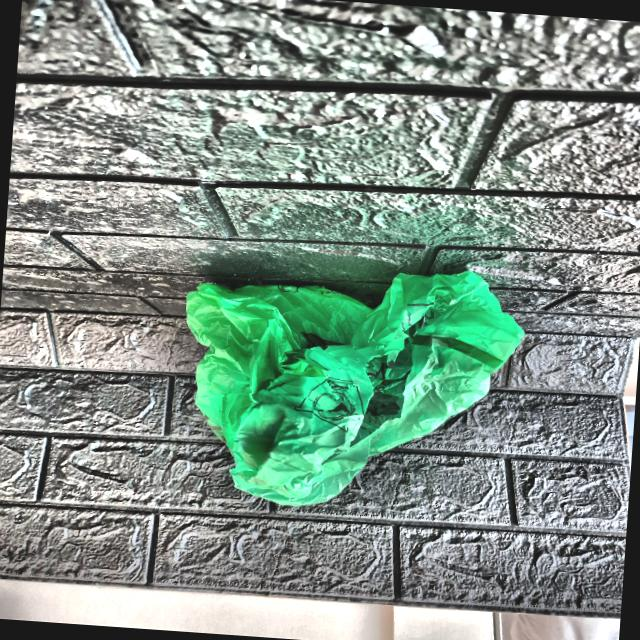plastic bag: (162, 245, 524, 530)
